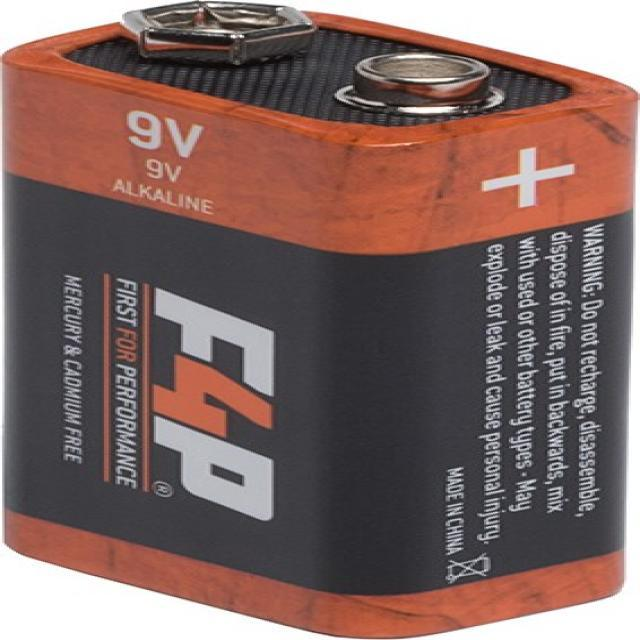9V: (0, 7, 637, 639)
